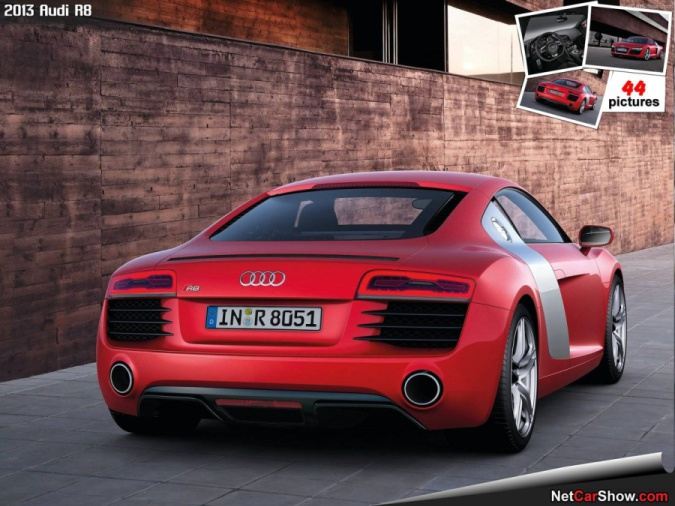audi: (234, 264, 291, 291)
